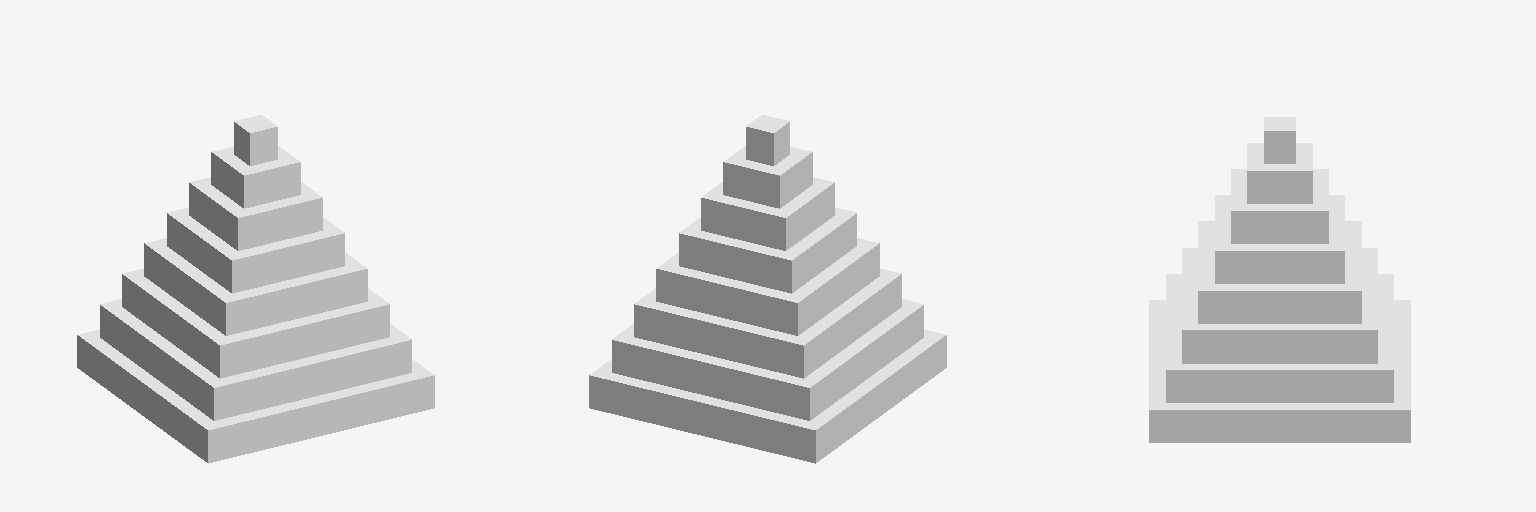
3 renders of one model, left to right at view 1: azimuth 30°, elevation 25°; view 2: azimuth 150°, elevation 25°; view 3: azimuth 270°, elevation 25°, orthographic.
Visible parts, largest first — view 1: cube; view 2: cube; view 3: cube.
Part boxes in pixels (left/top/right/bottom): cube: left=77, top=115, right=434, bottom=463; cube: left=589, top=115, right=946, bottom=463; cube: left=1149, top=117, right=1410, bottom=442.
Size of the model in its own units: 1 by 1.11 by 1.
1 materials, 1 textured.